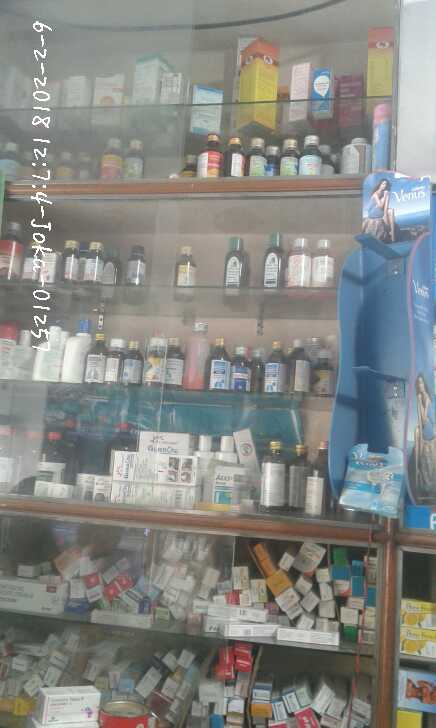venus: (345, 435, 404, 518)
